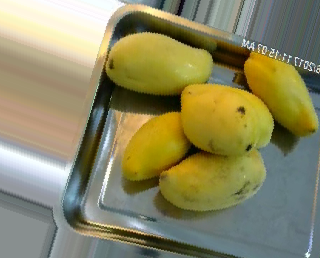Mango: (157, 149, 268, 211), (243, 48, 319, 136), (106, 33, 211, 94), (183, 82, 274, 148), (180, 86, 259, 156), (125, 111, 194, 179)
